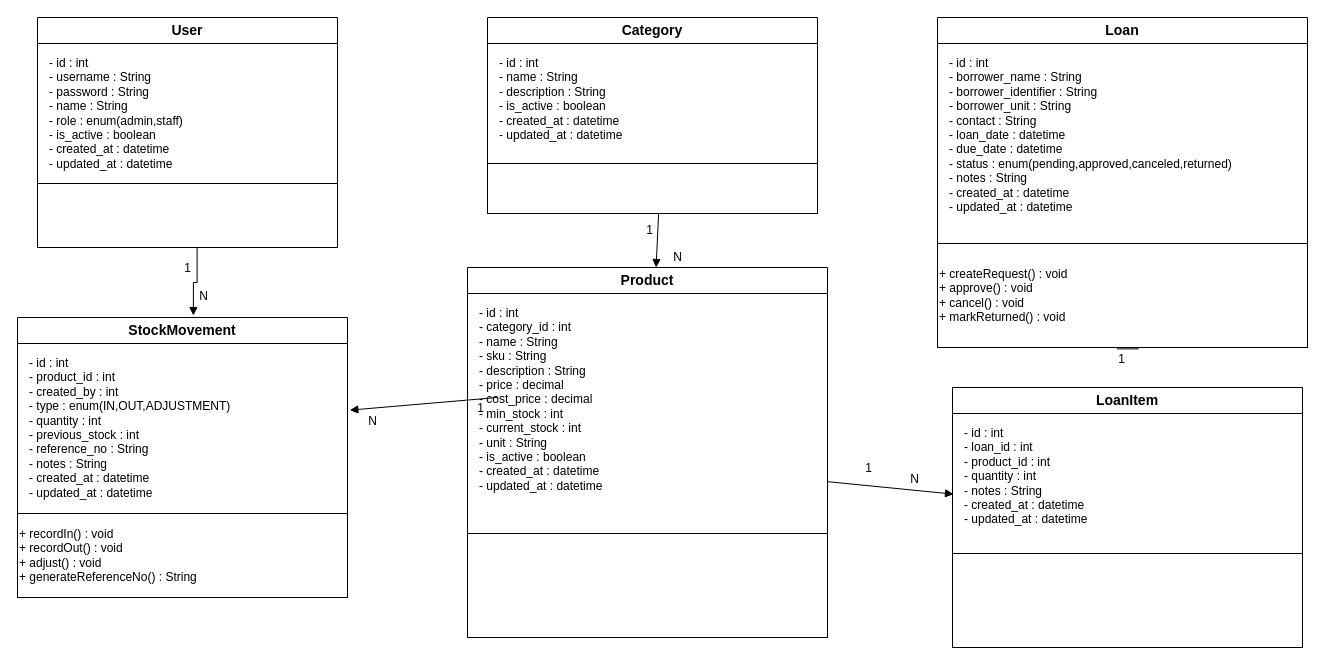
The diagram is 1325 pixels wide and 665 high, and some of its shapes have lost their labels. The shapes that lost their labels are listed below. From the top down, each one's centre as x and y in pixels, then its label:
At point (652, 188): "+ create() : void + update() : void + delete() : void".
At point (187, 215): "+ login() : void + logout() : void + hasRole() : boolean".
At point (647, 585): "+ create() : void + update() : void + delete() : void + generateSKU() : String".
At point (1127, 600): "+ addItem() : void + updateQty() : void + removeItem() : void".
